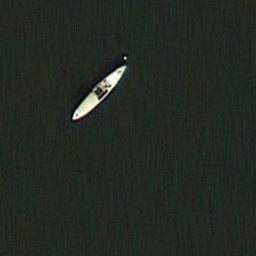boat: (68, 62, 128, 122)
